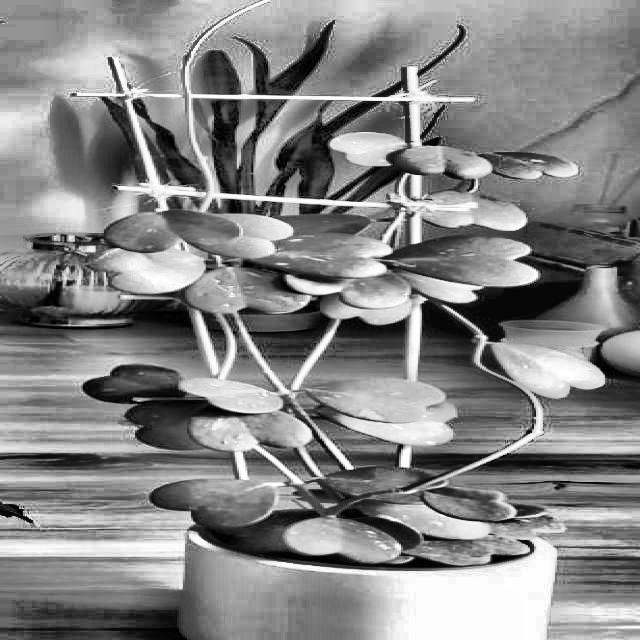plants: (84, 211, 596, 628)
